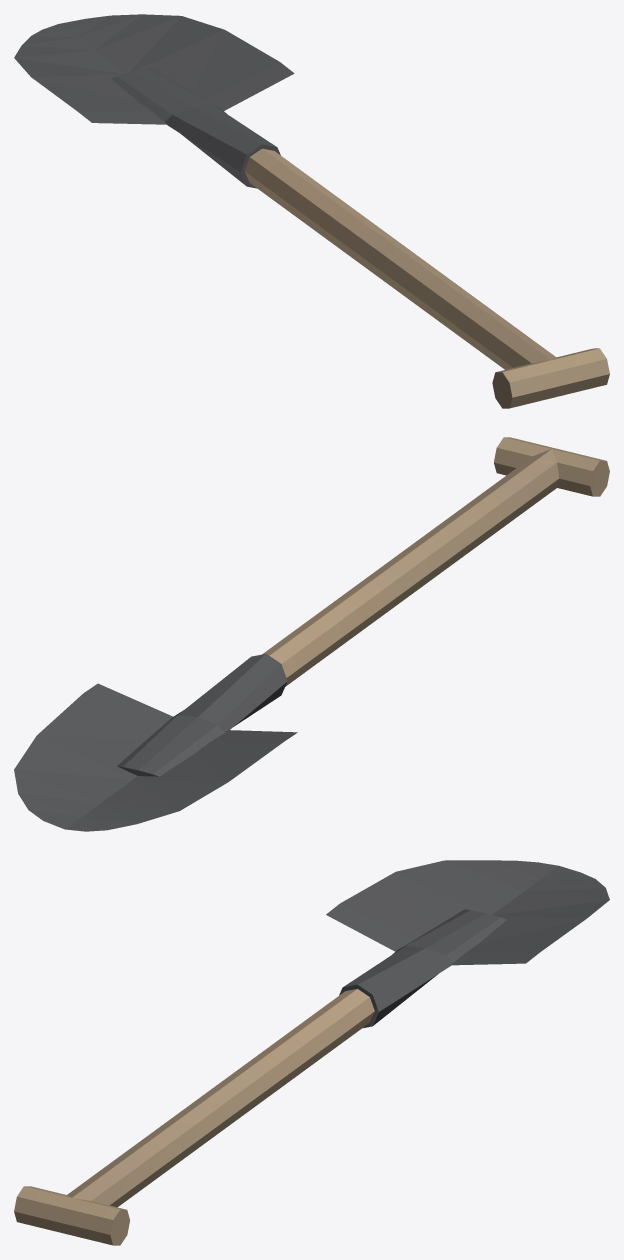
Rendered from Spade.glb.
3 renders of one model, top to bottom at view 1: azimuth 30°, elevation 25°; view 2: azimuth 150°, elevation 25°; view 3: azimuth 330°, elevation 25°, orthographic.
Parts seen in each view (by area): view 1: Spade; view 2: Spade; view 3: Spade.
Part boxes in pixels (x1,y1,x2,y2): Spade: (14,14,609,408); Spade: (14,437,609,831); Spade: (14,860,609,1245).
Bounding box in the file's own units: 0.6574 × 0.14 × 2.82.
1 material, 1 textured.
